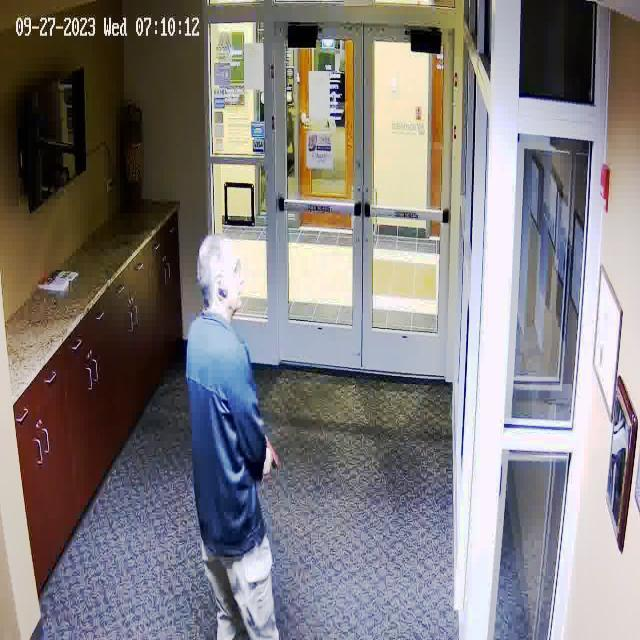Gun: (260, 415, 290, 473)
